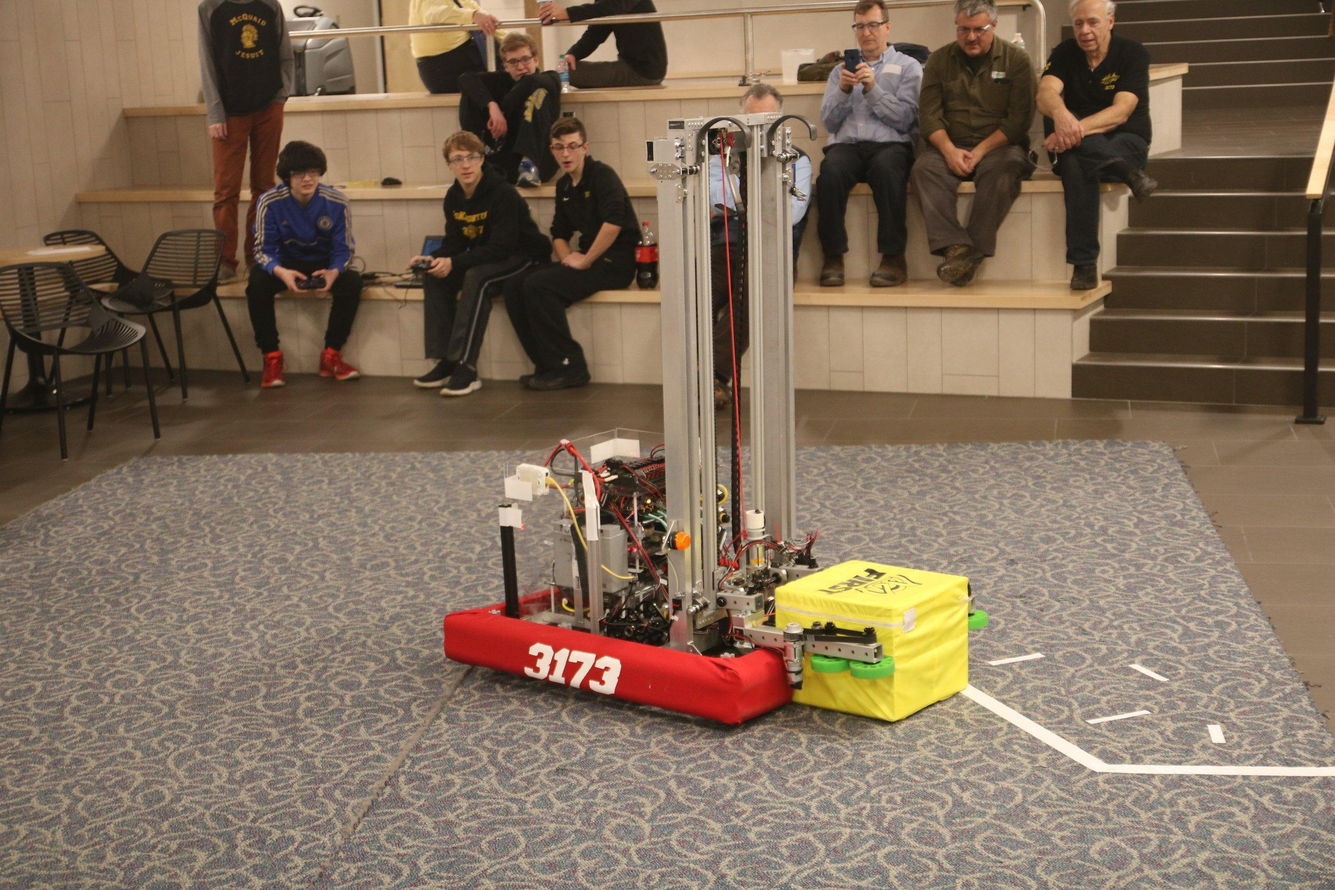robot: (427, 105, 997, 739)
